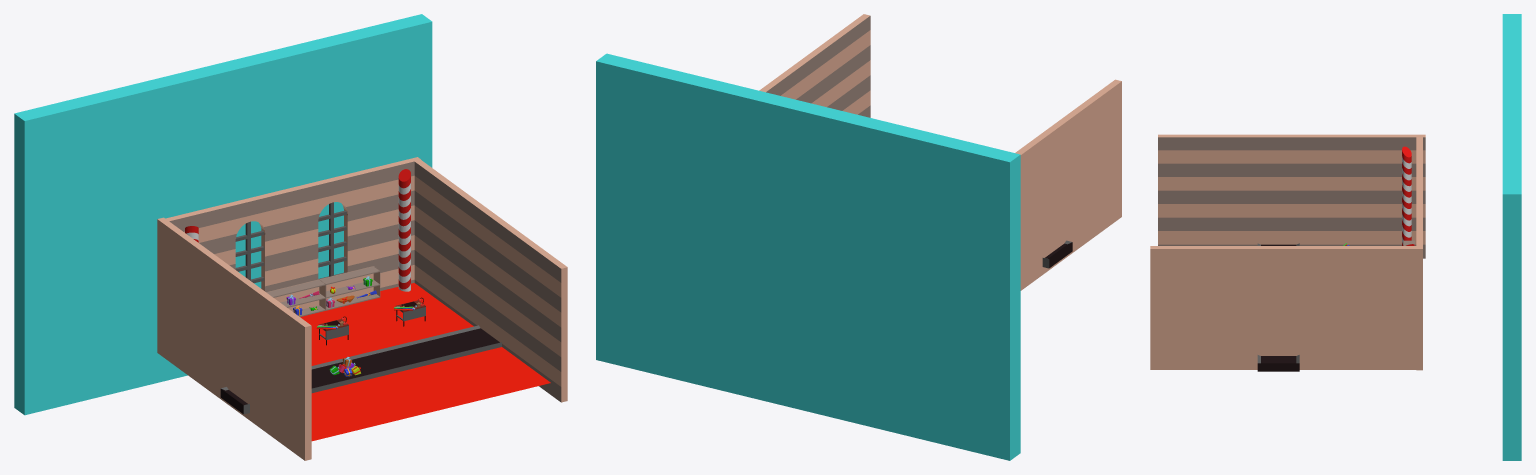
File: Room.fbx
3 renders of one model, left to right at view 1: azimuth 30°, elevation 25°; view 2: azimuth 150°, elevation 25°; view 3: azimuth 270°, elevation 25°, orthographic. The views are drawn at different scales.
Visible parts, largest first — view 1: Cube.034, Cube.037, Cube.011, Plane, Cube.035, Cube.033, Cube.039, Cylinder.030, Cube.038, Cube.036, Cube.012; view 2: Cube.034, Cube.037, Cube.011; view 3: Cube.011, Cube.037, Cube.034, Cube.035, Cylinder.029, Cube.033.
Part boxes in pixels (bbox=[...]): Cube.034: bbox=[14, 14, 432, 415]; Cube.037: bbox=[157, 217, 311, 460]; Cube.011: bbox=[414, 160, 567, 402]; Plane: bbox=[300, 283, 550, 441]; Cube.035: bbox=[162, 157, 421, 291]; Cube.033: bbox=[220, 325, 501, 414]; Cube.039: bbox=[319, 266, 380, 310]; Cylinder.030: bbox=[398, 169, 410, 291]; Cube.038: bbox=[266, 279, 325, 316]; Cube.036: bbox=[318, 202, 346, 279]; Cube.012: bbox=[235, 221, 264, 283]; Cube.034: bbox=[596, 53, 1020, 460]; Cube.037: bbox=[1015, 79, 1121, 290]; Cube.011: bbox=[759, 14, 870, 117]; Cube.011: bbox=[1150, 246, 1417, 369]; Cube.037: bbox=[1158, 134, 1425, 258]; Cube.034: bbox=[1502, 14, 1521, 460]; Cube.035: bbox=[1416, 137, 1422, 370]; Cylinder.029: bbox=[1402, 146, 1411, 245]; Cube.033: bbox=[1257, 243, 1299, 371].
Bounding box in the file's own units: 88625 × 61098 × 77088.
